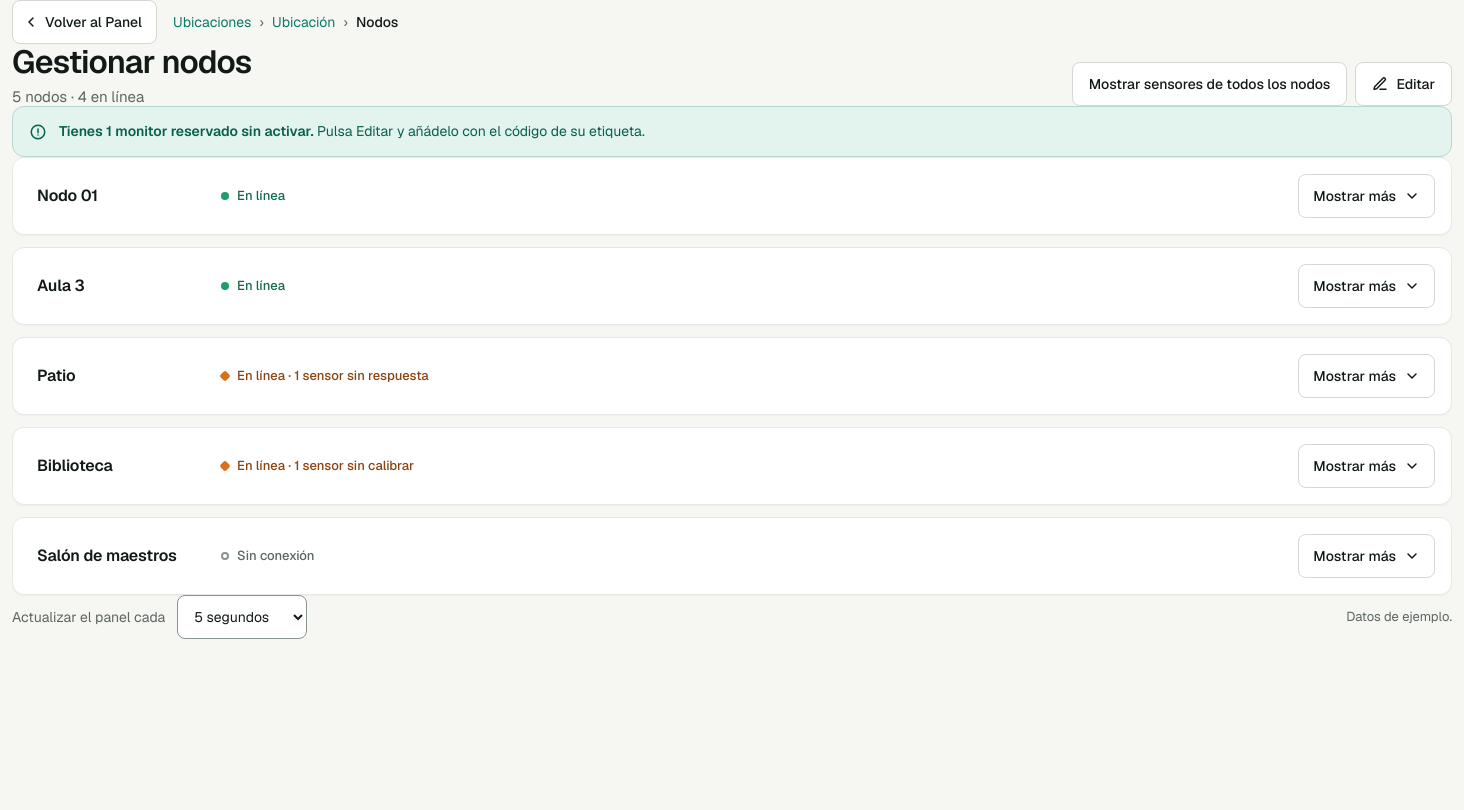
Nodos › despliega los sensores de un nodo
Check: the text "Patio" is shown, box top-left (37, 365), bottom-right (75, 386)
What coordinates should you click on to do the following:
click the button "Mostrar más" in the row of "En línea · 1 sensor sin respuesta"
I would click on:
 (1367, 376)
Its box is top-left (1298, 354), bottom-right (1435, 398).
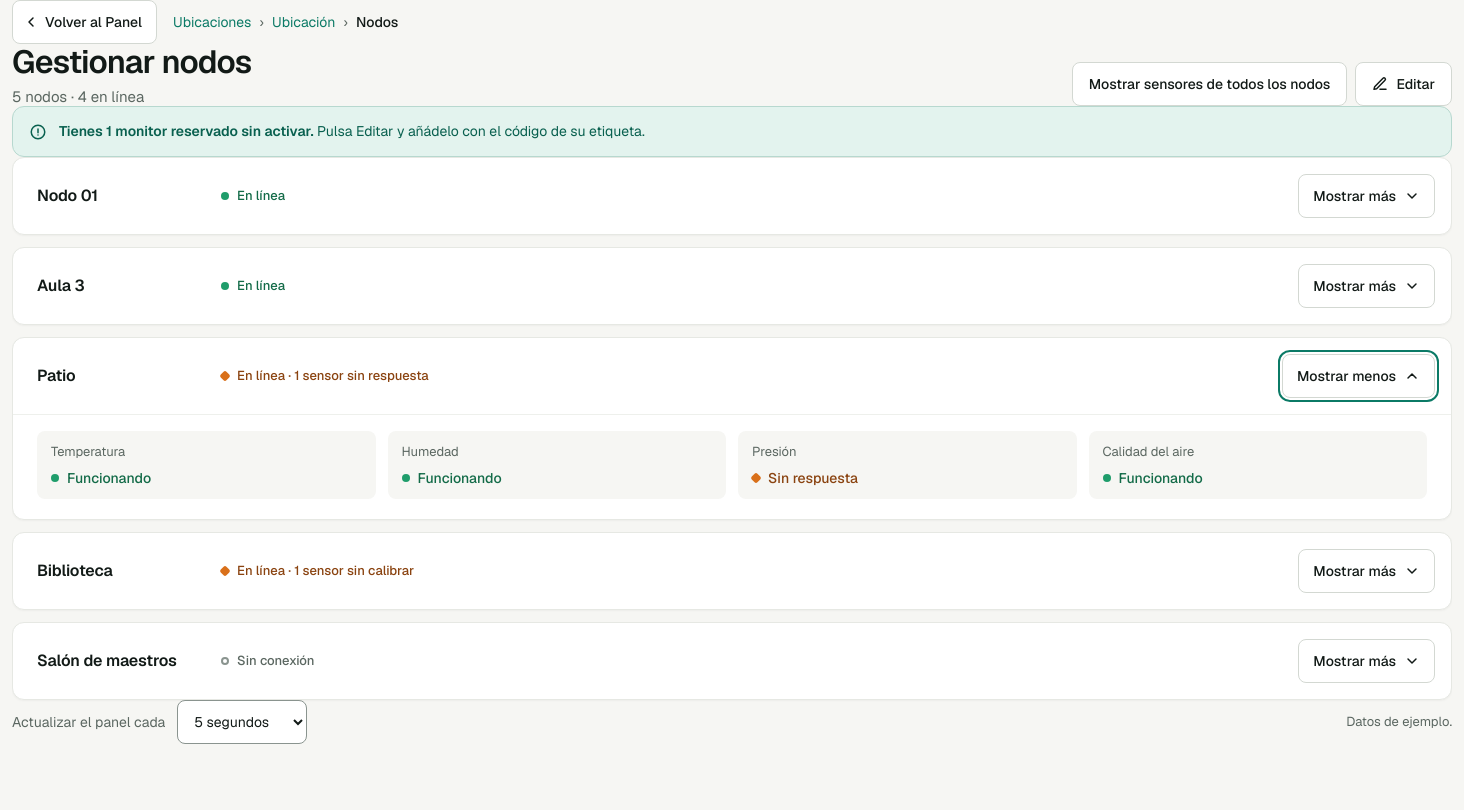
Check: the text "Sin respuesta" is shown, box top-left (752, 469), bottom-right (858, 487)
Check: the text "Funcionando" is shown 3 times, box top-left (51, 469), bottom-right (151, 487); top-left (402, 469), bottom-right (502, 487); top-left (1102, 469), bottom-right (1203, 487)
